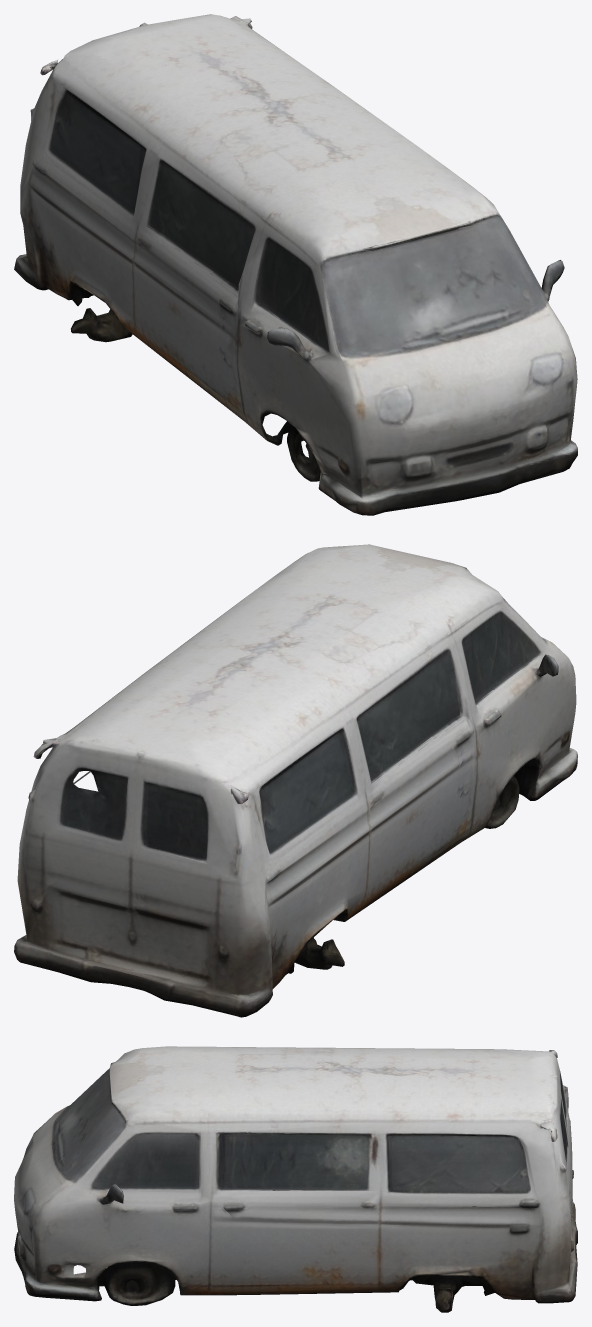
Rendered from van.glb.
3 views of the same model, one above another, from view 1: azimuth 30°, elevation 25°; view 2: azimuth 150°, elevation 25°; view 3: azimuth 270°, elevation 25° (orthographic). The views are drawn at different scales.
Visible parts, largest first — view 1: van; view 2: van; view 3: van.
Part boxes in pixels (x1,y1,x2,y2): van: (14,14,577,515); van: (14,544,577,1017); van: (14,1046,577,1312).
Size of the model in its own units: 0.484 by 0.3913 by 0.9981.
Materials: 1 (1 with a texture image).
